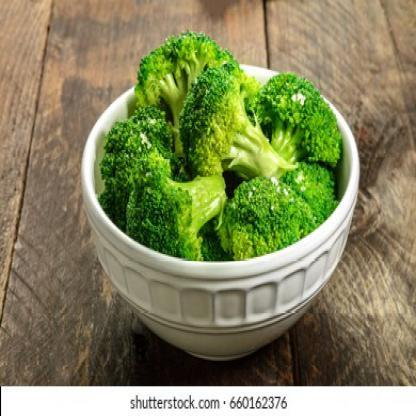broccoli: (96, 32, 342, 266)
